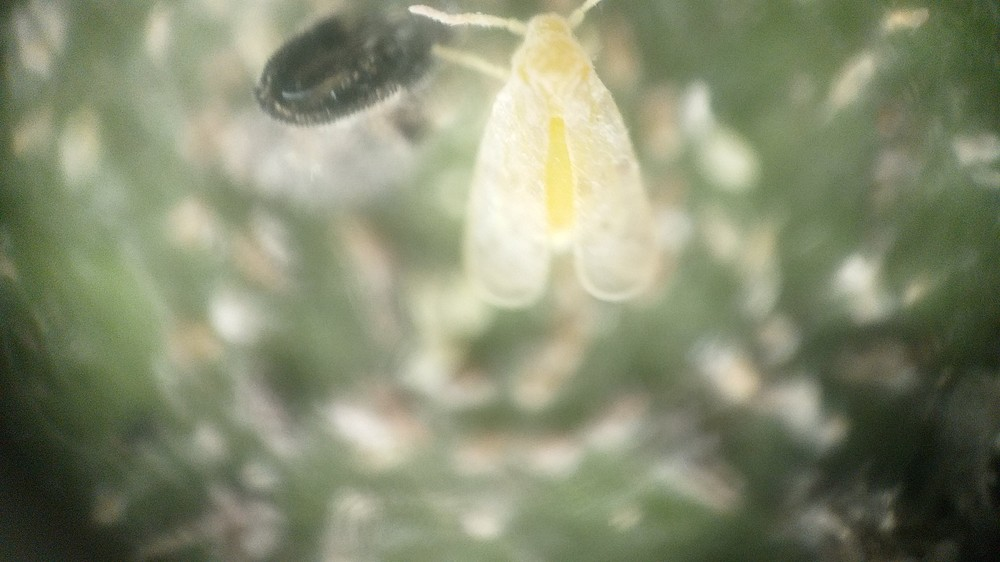Mosca Blanca: (403, 5, 721, 320)
